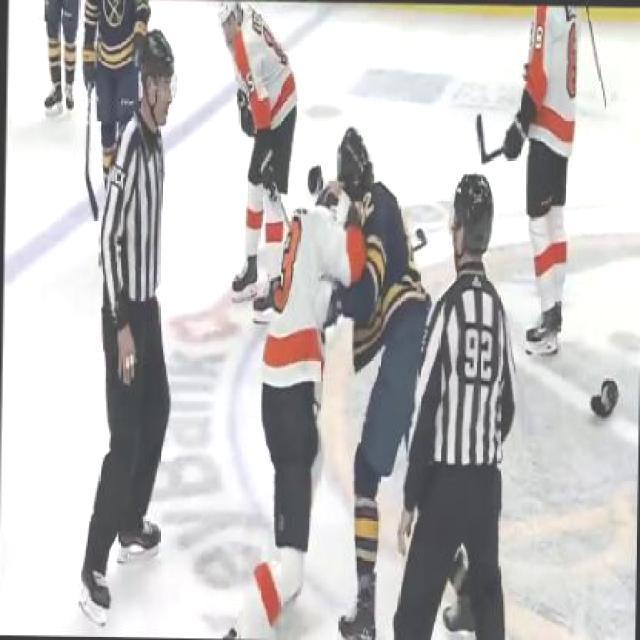fight: (252, 120, 445, 638)
